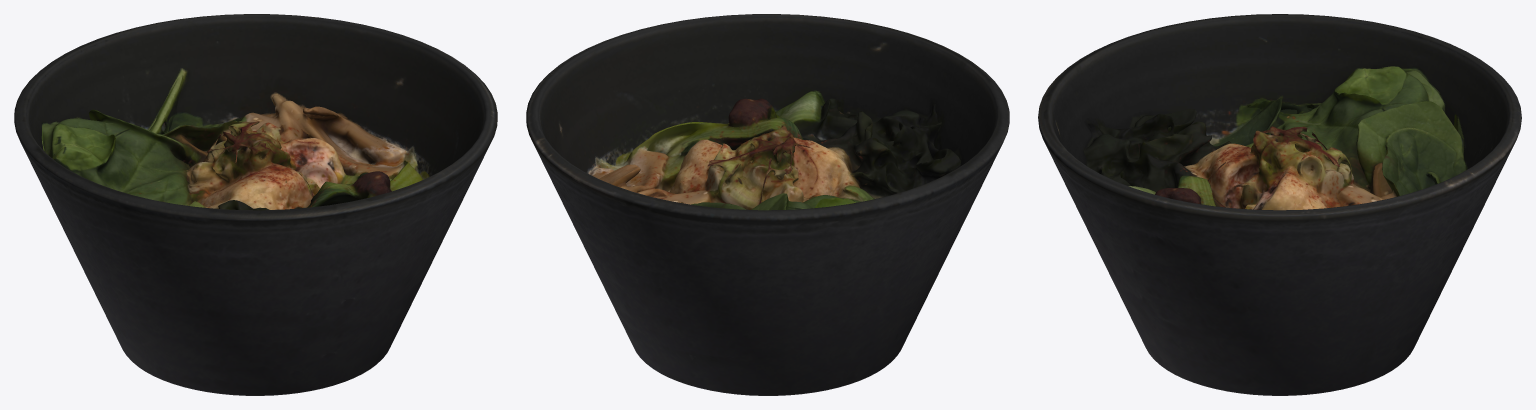
File: Ramen.FBX
The picture shows the model from 3 angles, left to right: view 1: azimuth 30°, elevation 25°; view 2: azimuth 150°, elevation 25°; view 3: azimuth 270°, elevation 25°; orthographic projection.
Visible parts, largest first — view 1: Ramen; view 2: Ramen; view 3: Ramen.
Boxes of the visible parts, x1,y1,x2,y2 form: Ramen: (14, 14, 497, 395); Ramen: (526, 14, 1009, 395); Ramen: (1038, 14, 1521, 395).
Size of the model in its own units: 3.4 by 1.76 by 3.4.
1 material, 1 textured.
